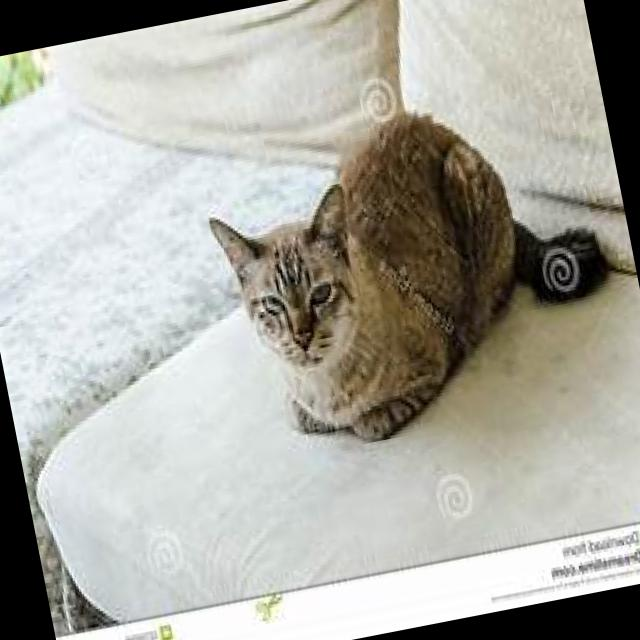animal: (196, 76, 636, 465)
